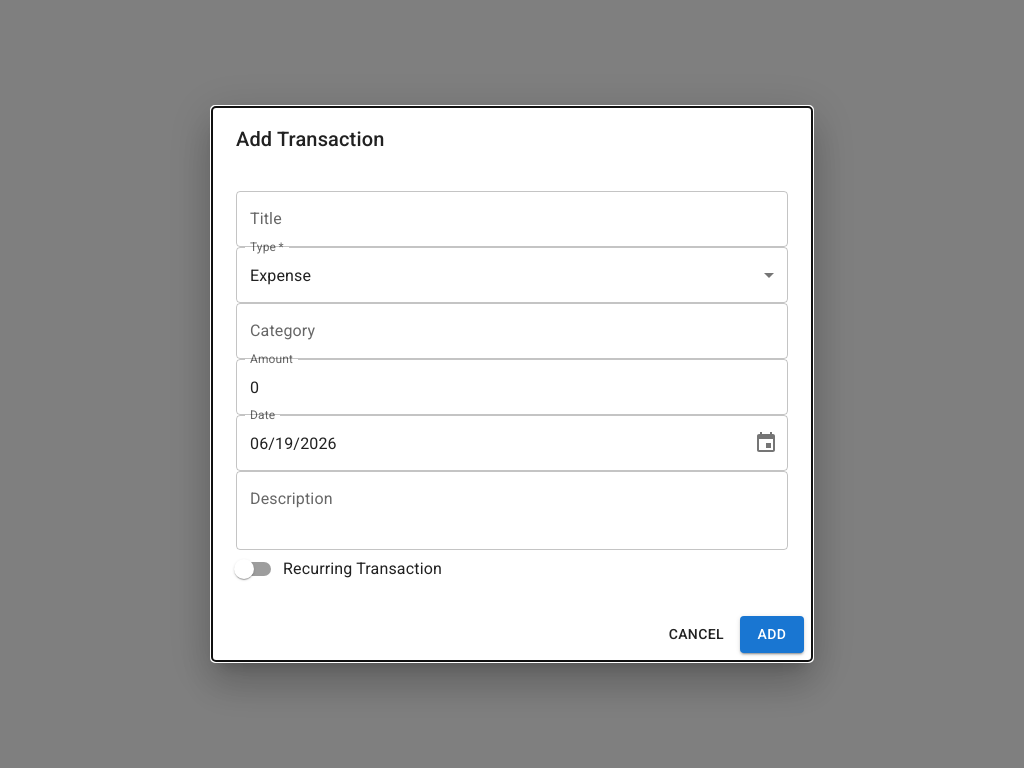
Test: TransactionForm › should validate amount must be positive
Check: the dialog is shown, box [212,107,812,661]
Replace the text in the number field labelled "Amount" with "-10" at (512, 387), box [236,359,788,415]
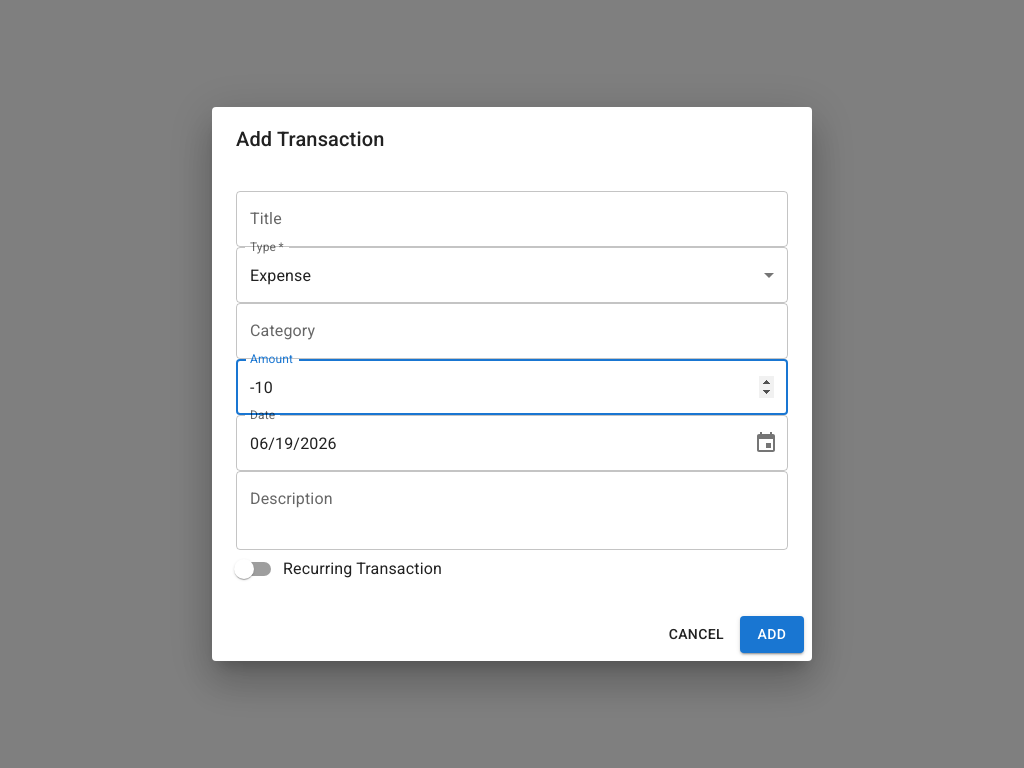
Click the button "Add" at (772, 635), box [740,616,804,653]
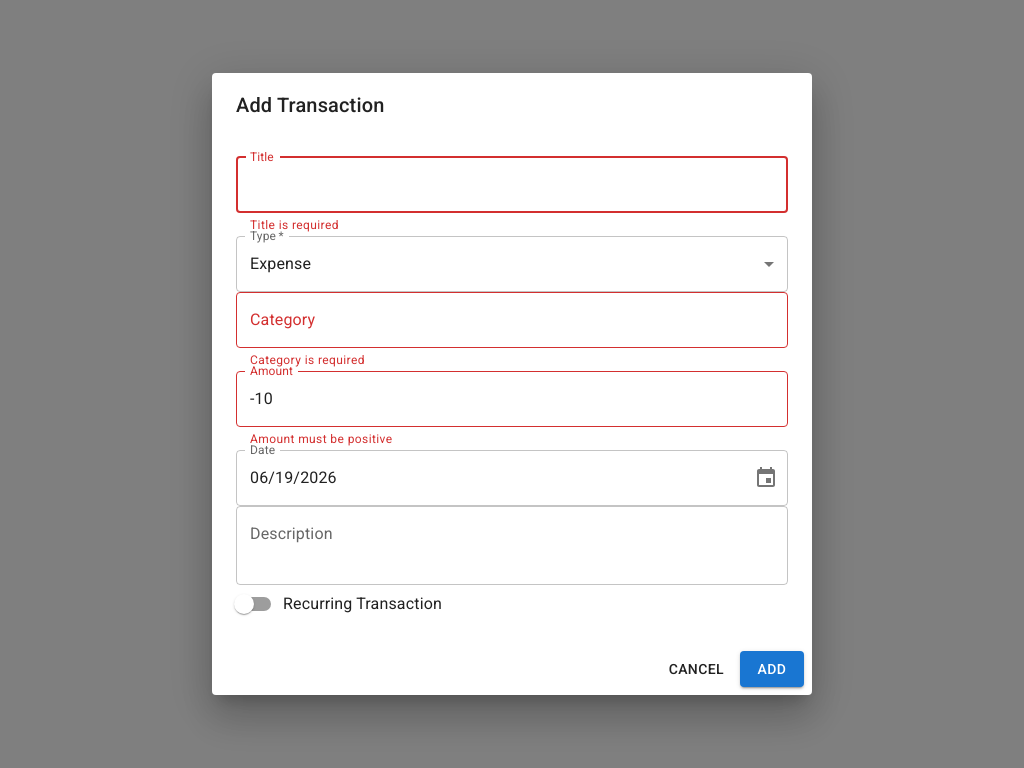
Check: the text "Amount must be positive" is shown, box [250,432,392,446]
